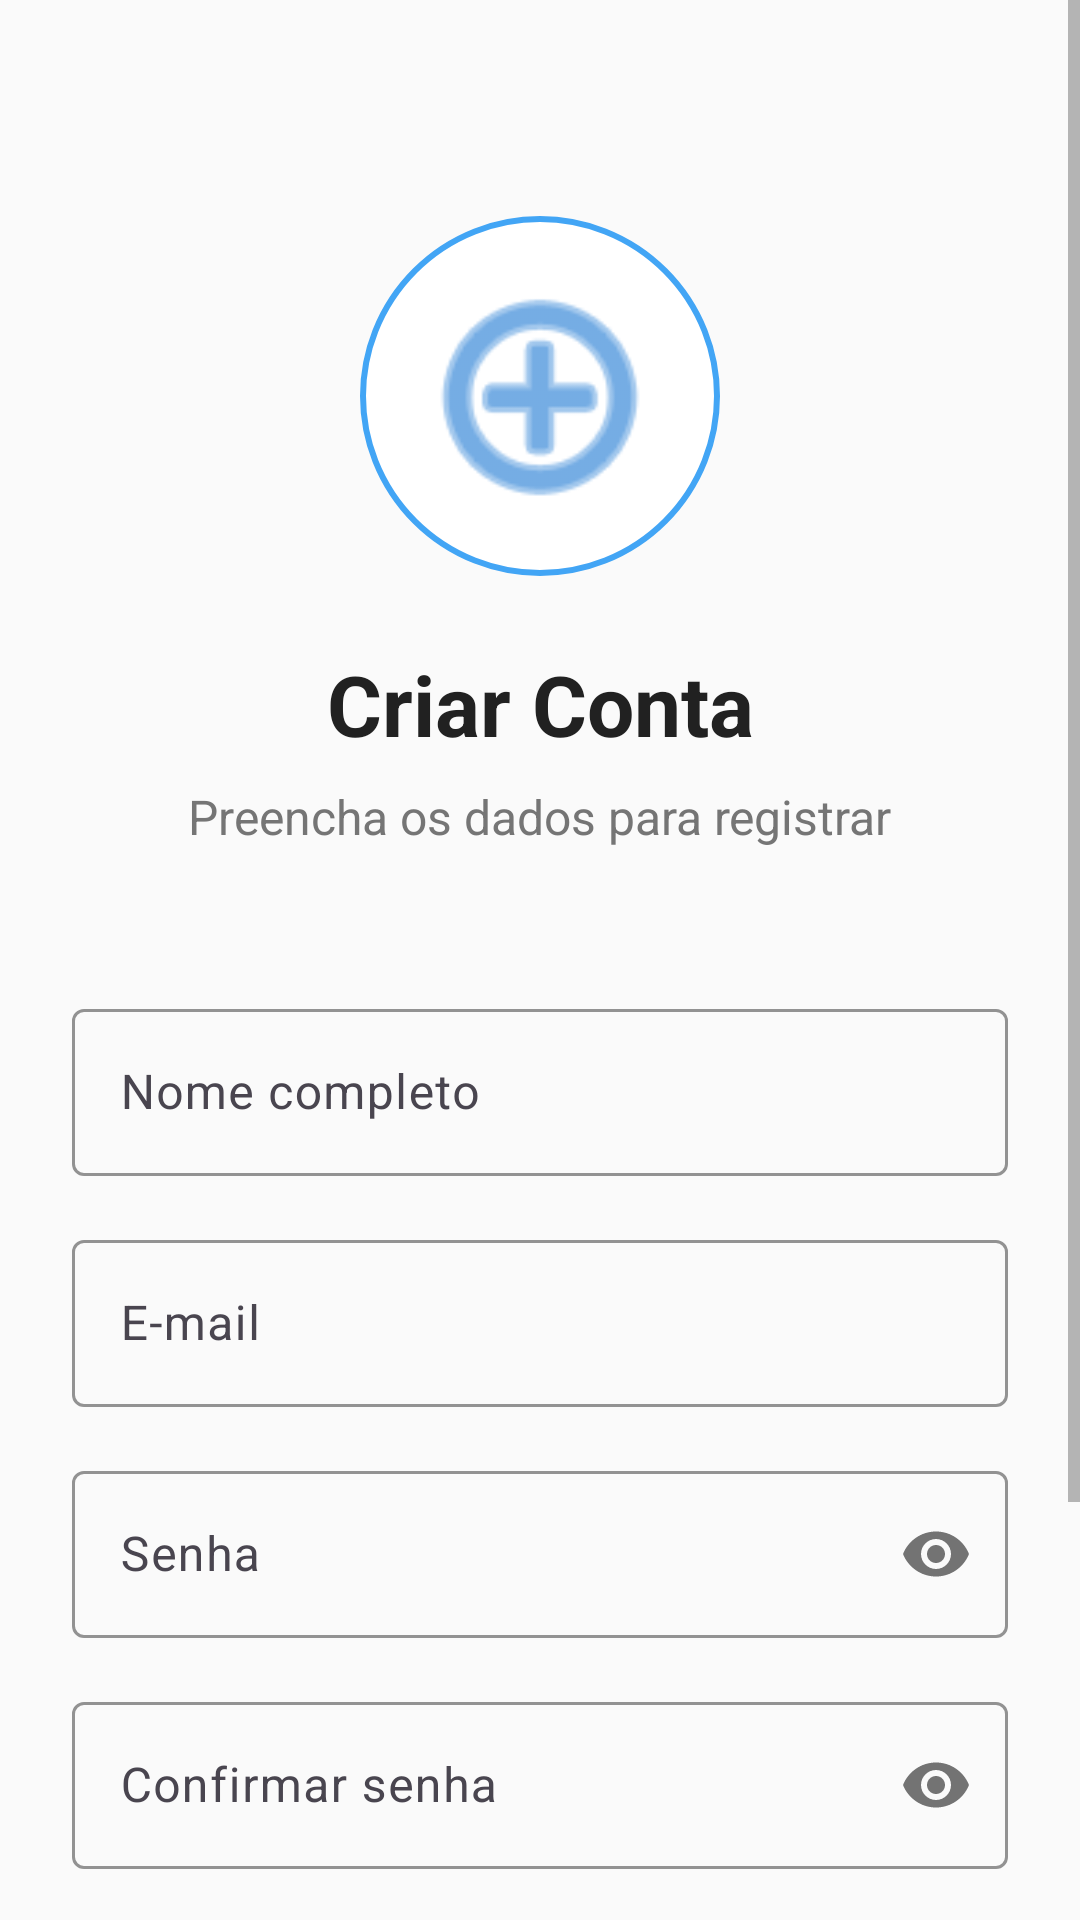

Screen size 1080×1920. Icon name, then its center in pixels as (x=x, y=y):
add: (x=540, y=396)
